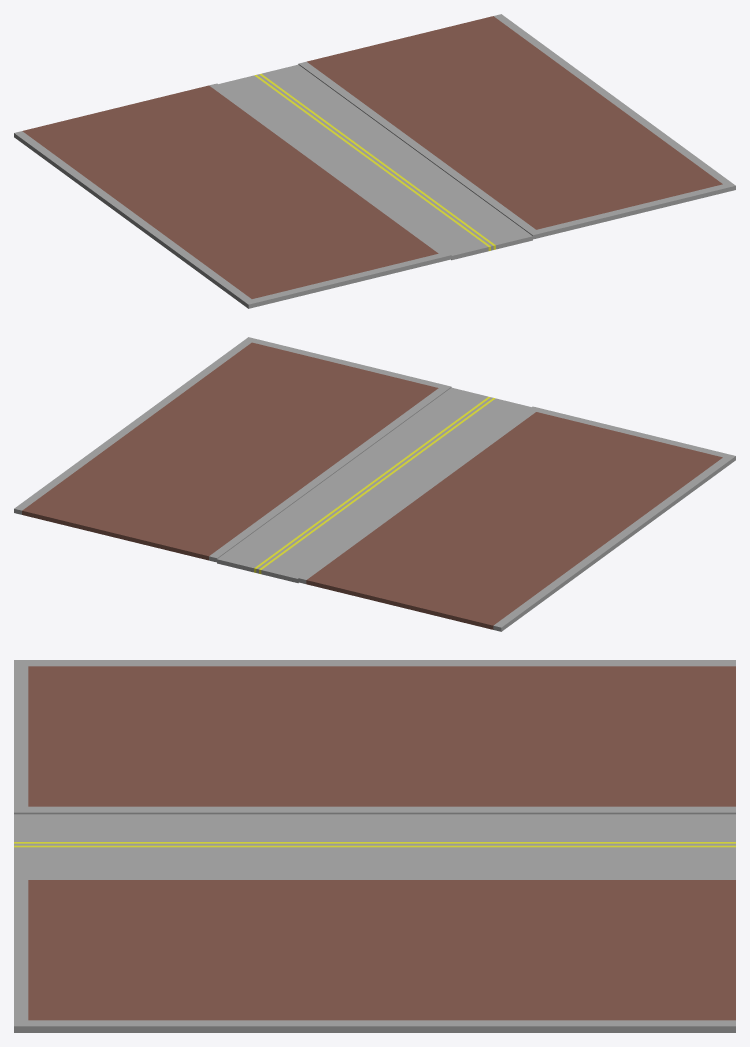
Rendered from Road_Straight_3.fbx.
3 renders of one model, top to bottom at view 1: azimuth 30°, elevation 25°; view 2: azimuth 150°, elevation 25°; view 3: azimuth 270°, elevation 25°, orthographic. The views are drawn at different scales.
Visible parts, largest first — view 1: pCube24, pCube21, pCube25; view 2: pCube24, pCube21, pCube25; view 3: pCube21, pCube24, pCube25.
Boxes of the visible parts, box(x1,y1,x2,y2) form: pCube24: box(14, 83, 451, 308); pCube21: box(298, 14, 735, 239); pCube25: box(218, 64, 532, 260); pCube24: box(298, 406, 735, 631); pCube21: box(14, 337, 451, 562); pCube25: box(217, 387, 531, 583); pCube21: box(14, 873, 735, 1032); pCube24: box(14, 660, 735, 814); pCube25: box(14, 814, 735, 873).
Bounding box in the file's own units: 120 × 1.23 × 100.
